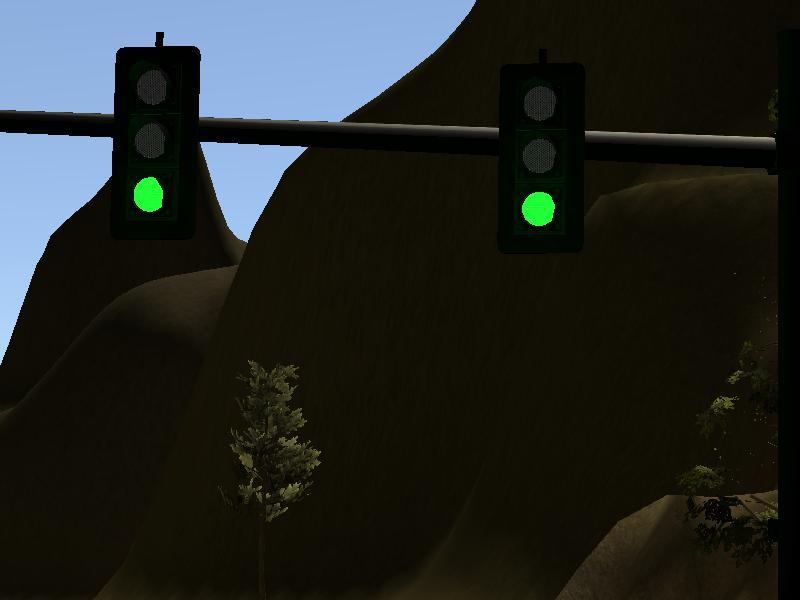Green: (109, 46, 199, 242), (497, 62, 586, 255)
